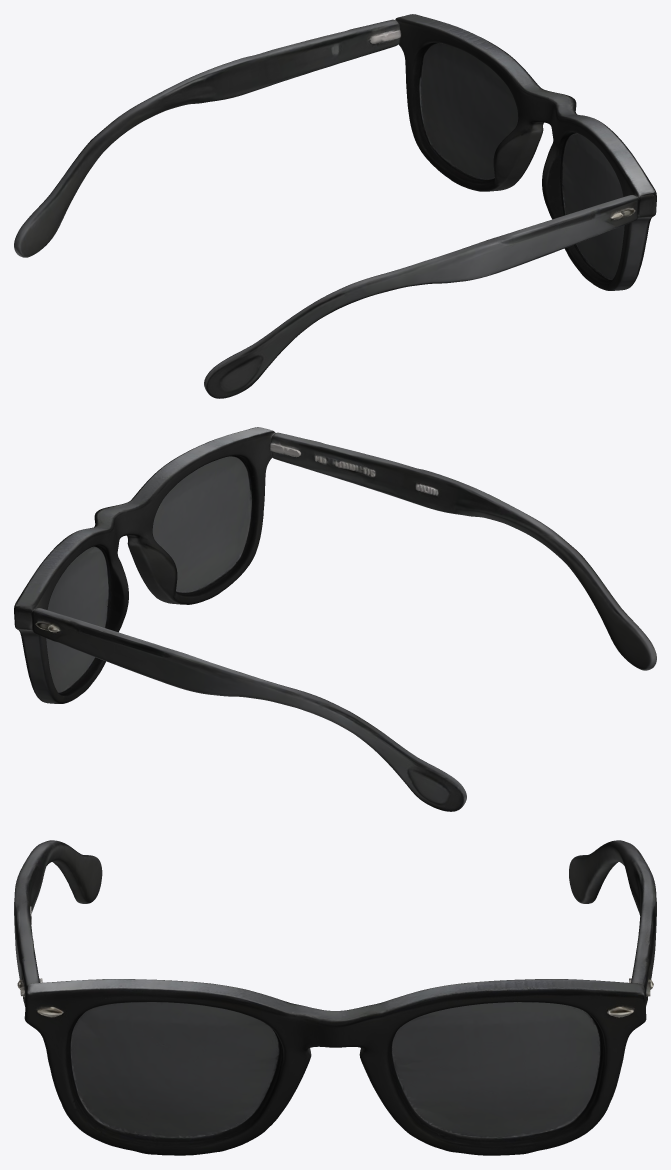
Rendered from oculos.glb.
3 renders of one model, top to bottom at view 1: azimuth 30°, elevation 25°; view 2: azimuth 150°, elevation 25°; view 3: azimuth 270°, elevation 25°, orthographic. The views are drawn at different scales.
Visible parts, largest first — view 1: tripo_node_e8d9bbf2-2fa9-48a8-a58e-270820a80374; view 2: tripo_node_e8d9bbf2-2fa9-48a8-a58e-270820a80374; view 3: tripo_node_e8d9bbf2-2fa9-48a8-a58e-270820a80374.
Part boxes in pixels (box(x1,y1,x2,y2)): tripo_node_e8d9bbf2-2fa9-48a8-a58e-270820a80374: box(14, 14, 656, 398); tripo_node_e8d9bbf2-2fa9-48a8-a58e-270820a80374: box(14, 427, 656, 811); tripo_node_e8d9bbf2-2fa9-48a8-a58e-270820a80374: box(14, 840, 656, 1155).
Bounding box in the file's own units: 0.9795 × 0.279 × 0.9296.
Materials: 1 (1 with a texture image).
